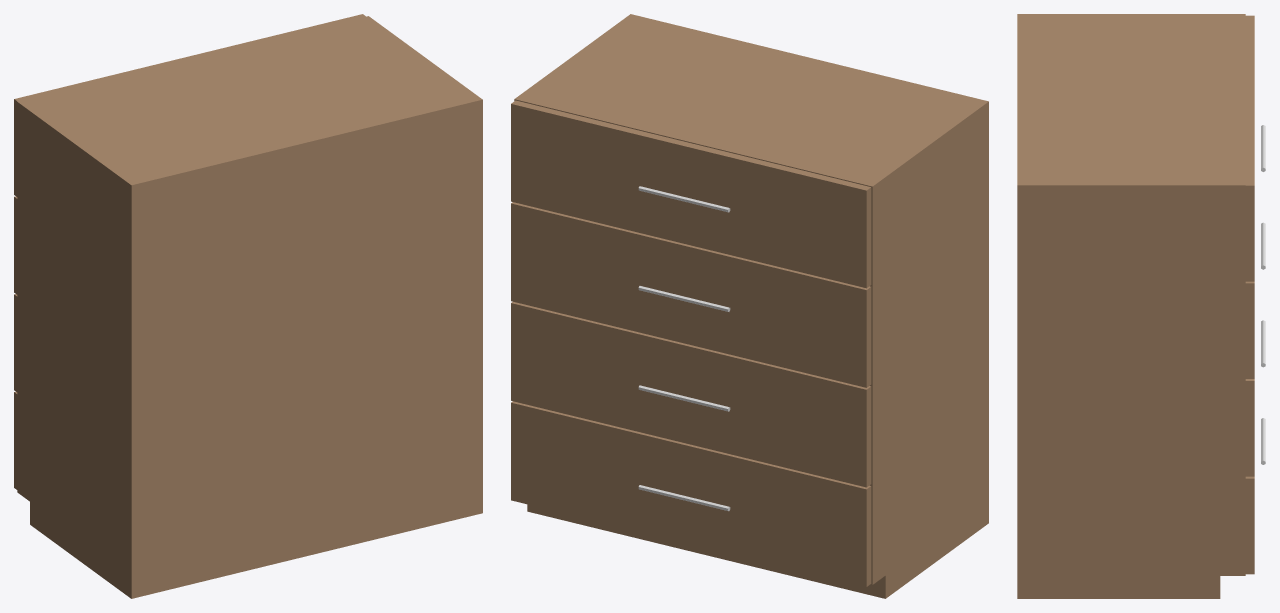
The model's file is furniture.storage.chest_of_drawers.glb.
3 views of the same model, side by side, from view 1: azimuth 30°, elevation 25°; view 2: azimuth 150°, elevation 25°; view 3: azimuth 270°, elevation 25° (orthographic). The views are drawn at different scales.
Visible parts, largest first — view 1: main__hardwood; view 2: main__hardwood, main__steel_stainless; view 3: main__hardwood, main__steel_stainless.
Part boxes in pixels (x1,y1,x2,y2): main__hardwood: (14, 14, 482, 598); main__hardwood: (511, 14, 988, 598); main__steel_stainless: (638, 186, 730, 511); main__hardwood: (1017, 14, 1254, 598); main__steel_stainless: (1261, 125, 1265, 464).
Size of the model in its own units: 0.8 by 0.9 by 0.4893.
